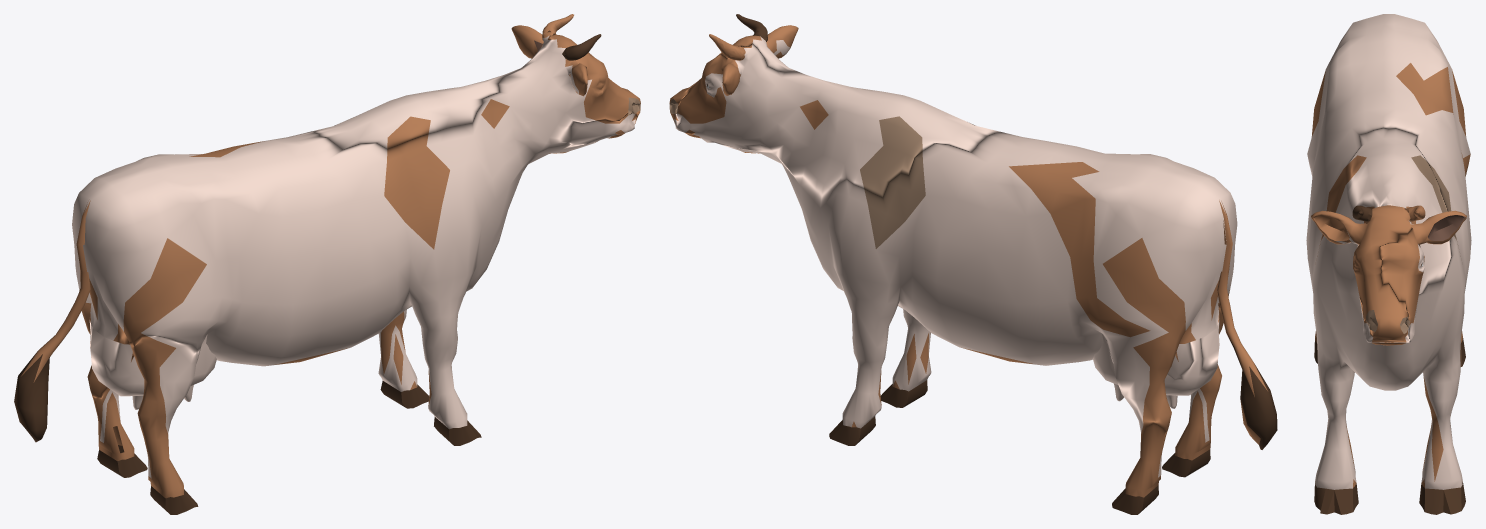
The model's file is cow.obj.
The picture shows the model from 3 angles, left to right: view 1: azimuth 30°, elevation 25°; view 2: azimuth 150°, elevation 25°; view 3: azimuth 270°, elevation 25°; orthographic projection. The views are drawn at different scales.
Visible parts, largest first — view 1: Mesh18 Group1 COW1 Model, Mesh20 Group1 COW1 Model, Mesh2 Group3 Group1 COW1 Model, Mesh8 Group4 Group1 COW1 Model, Mesh9 Group4 Group1 COW1 Model, Mesh11 Group4 Group1 COW1 Model; view 2: Mesh18 Group1 COW1 Model, Mesh20 Group1 COW1 Model, Mesh2 Group3 Group1 COW1 Model, Mesh11 Group4 Group1 COW1 Model, Mesh10 Group4 Group1 COW1 Model, Mesh8 Group4 Group1 COW1 Model, Mesh9 Group4 Group1 COW1 Model; view 3: Mesh18 Group1 COW1 Model, Mesh9 Group4 Group1 COW1 Model, Mesh10 Group4 Group1 COW1 Model, Mesh16 Group8 Group1 COW1 Model, Mesh14 Group6 Group1 COW1 Model, Mesh15 Group7 Group1 COW1 Model, Mesh1 Group2 Group1 COW1 Model.
Part boxes in pixels (bbox=[...]): Mesh18 Group1 COW1 Model: bbox=[72, 25, 640, 498]; Mesh20 Group1 COW1 Model: bbox=[14, 200, 90, 442]; Mesh2 Group3 Group1 COW1 Model: bbox=[89, 320, 216, 396]; Mesh8 Group4 Group1 COW1 Model: bbox=[97, 445, 147, 477]; Mesh9 Group4 Group1 COW1 Model: bbox=[380, 381, 429, 408]; Mesh11 Group4 Group1 COW1 Model: bbox=[150, 486, 198, 514]; Mesh18 Group1 COW1 Model: bbox=[669, 25, 1237, 497]; Mesh20 Group1 COW1 Model: bbox=[1217, 200, 1277, 449]; Mesh2 Group3 Group1 COW1 Model: bbox=[1093, 320, 1219, 395]; Mesh11 Group4 Group1 COW1 Model: bbox=[1162, 449, 1210, 477]; Mesh10 Group4 Group1 COW1 Model: bbox=[880, 380, 927, 407]; Mesh8 Group4 Group1 COW1 Model: bbox=[1112, 485, 1158, 514]; Mesh9 Group4 Group1 COW1 Model: bbox=[829, 416, 875, 445]; Mesh18 Group1 COW1 Model: bbox=[1306, 14, 1471, 489]; Mesh9 Group4 Group1 COW1 Model: bbox=[1419, 482, 1465, 514]; Mesh10 Group4 Group1 COW1 Model: bbox=[1314, 483, 1358, 514]; Mesh16 Group8 Group1 COW1 Model: bbox=[1428, 215, 1465, 240]; Mesh14 Group6 Group1 COW1 Model: bbox=[1312, 215, 1349, 240]; Mesh15 Group7 Group1 COW1 Model: bbox=[1352, 205, 1372, 221]; Mesh1 Group2 Group1 COW1 Model: bbox=[1406, 205, 1425, 221].
Size of the model in its own units: 3153 by 1756 by 706.
